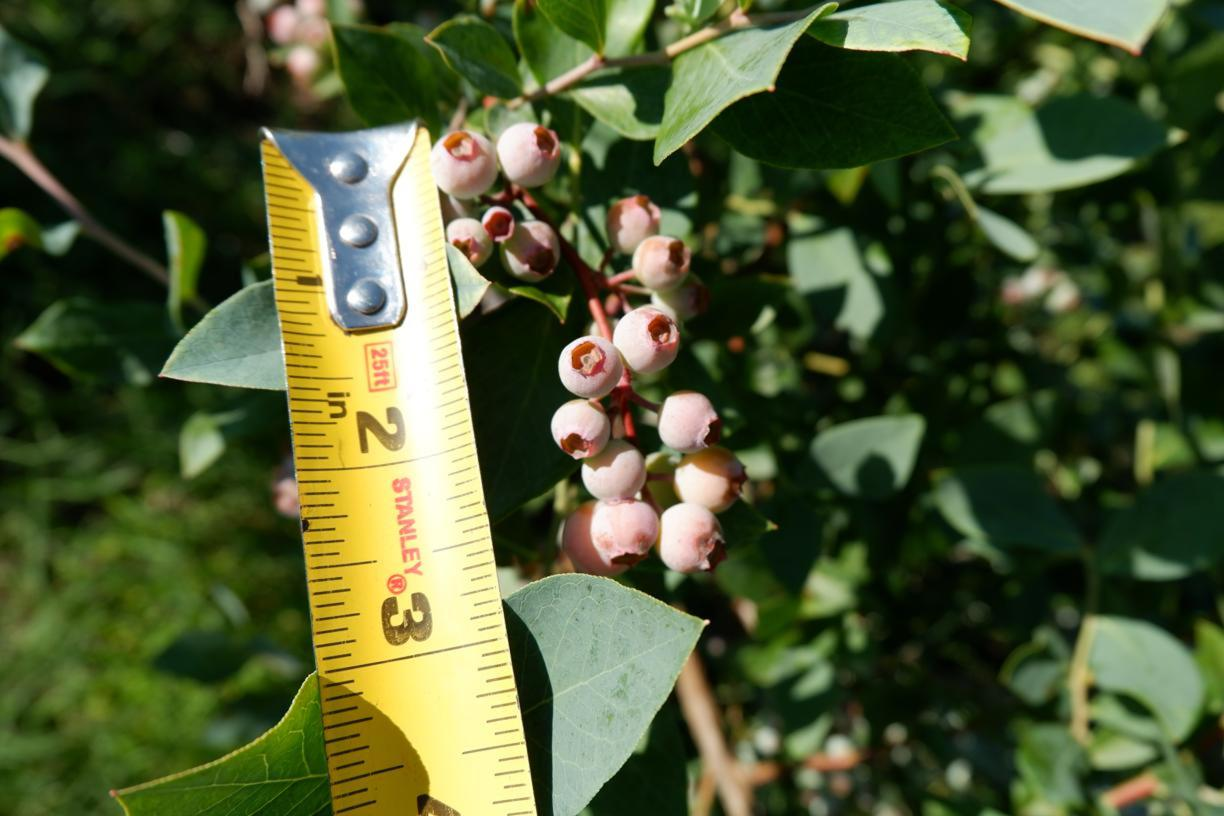Immature: (672, 446, 749, 514), (656, 503, 729, 574), (589, 499, 660, 571), (561, 500, 625, 578), (431, 130, 501, 199), (612, 308, 680, 374), (496, 123, 561, 188), (656, 390, 721, 452), (581, 440, 648, 500), (558, 337, 623, 398), (550, 399, 611, 460), (499, 221, 560, 282), (632, 236, 691, 294), (607, 197, 662, 254), (652, 273, 710, 318), (445, 218, 493, 267), (438, 188, 481, 229), (480, 207, 514, 242)
